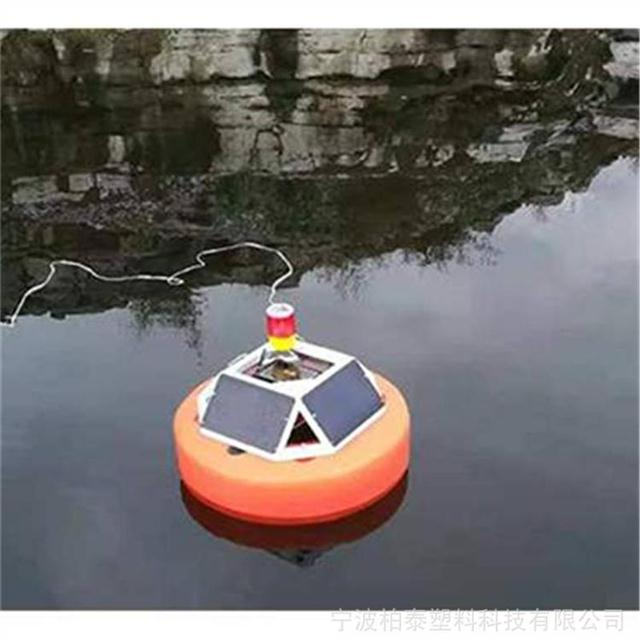buoy: (169, 299, 413, 520)
